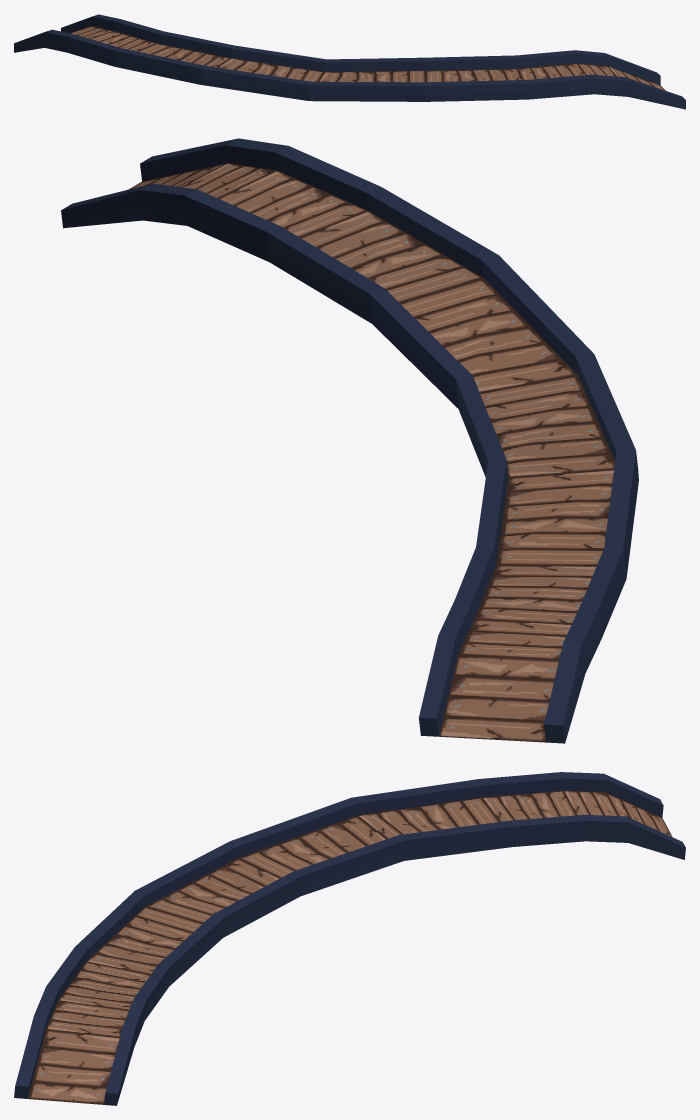
File: Puente.fbx
3 renders of one model, top to bottom at view 1: azimuth 30°, elevation 25°; view 2: azimuth 150°, elevation 25°; view 3: azimuth 270°, elevation 25°, orthographic. The views are drawn at different scales.
Visible parts, largest first — view 1: Puente; view 2: Puente; view 3: Puente.
Part boxes in pixels (x1,y1,x2,y2): Puente: [14, 14, 685, 109]; Puente: [61, 138, 638, 743]; Puente: [14, 772, 685, 1105].
Size of the model in its own units: 15031 by 14130 by 1792.
Materials: 2 (2 with a texture image).
